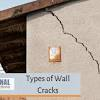stairstep_crack: (23, 28, 72, 66)
